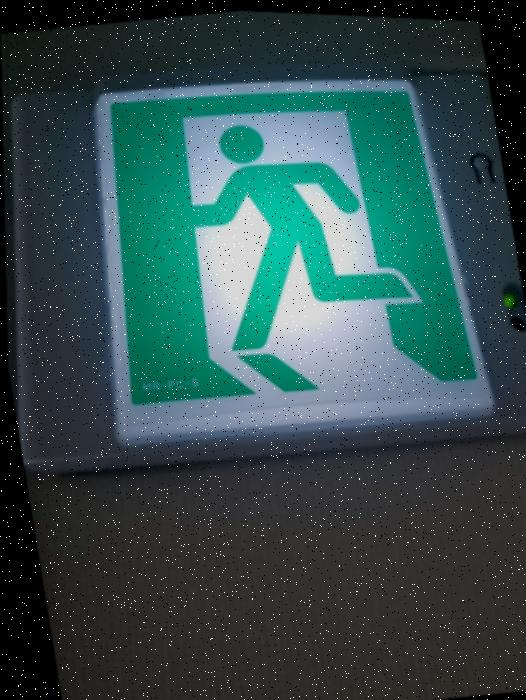emergency_exit: (2, 7, 524, 697), (4, 11, 524, 475), (94, 77, 495, 447)
